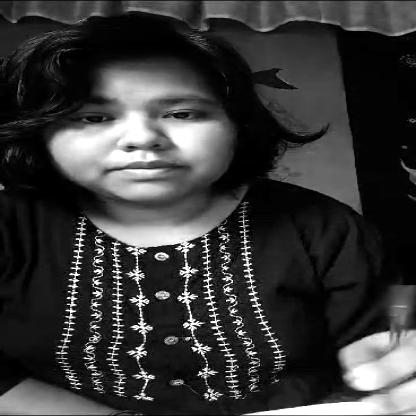Normal: (11, 32, 264, 216)
